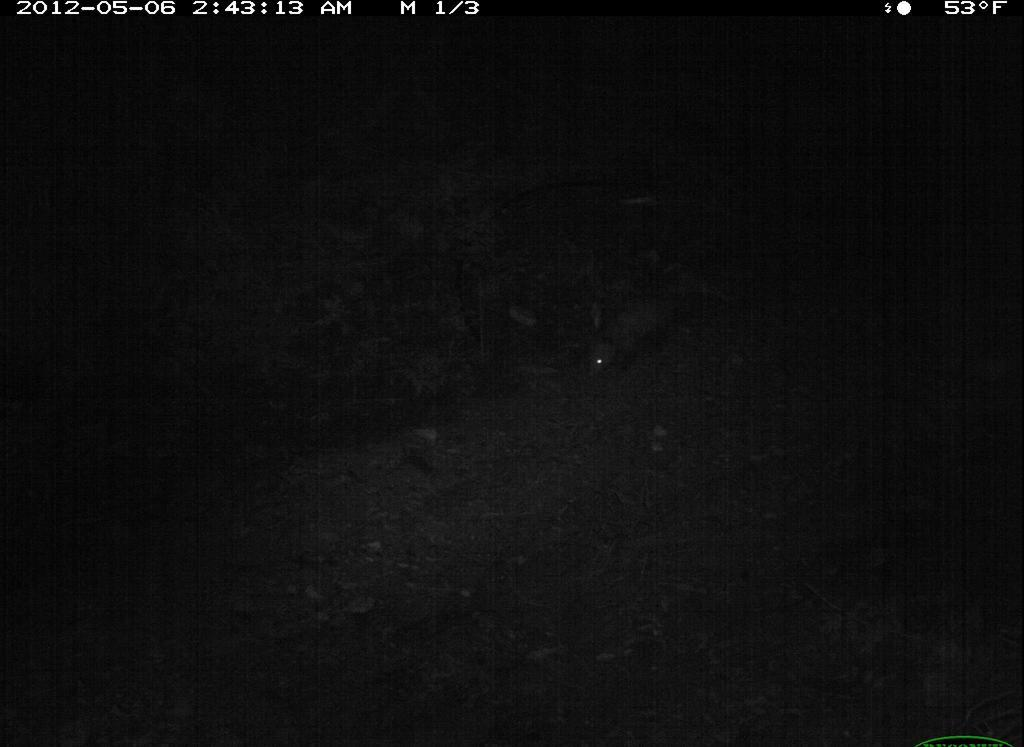opossum: (587, 282, 715, 379)
